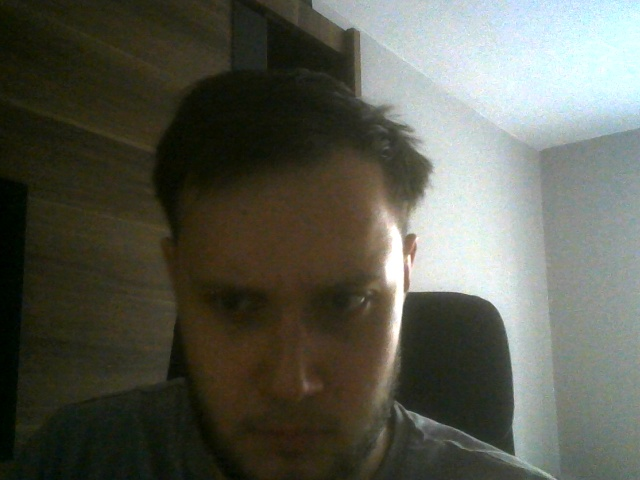angry: (152, 71, 418, 480)
